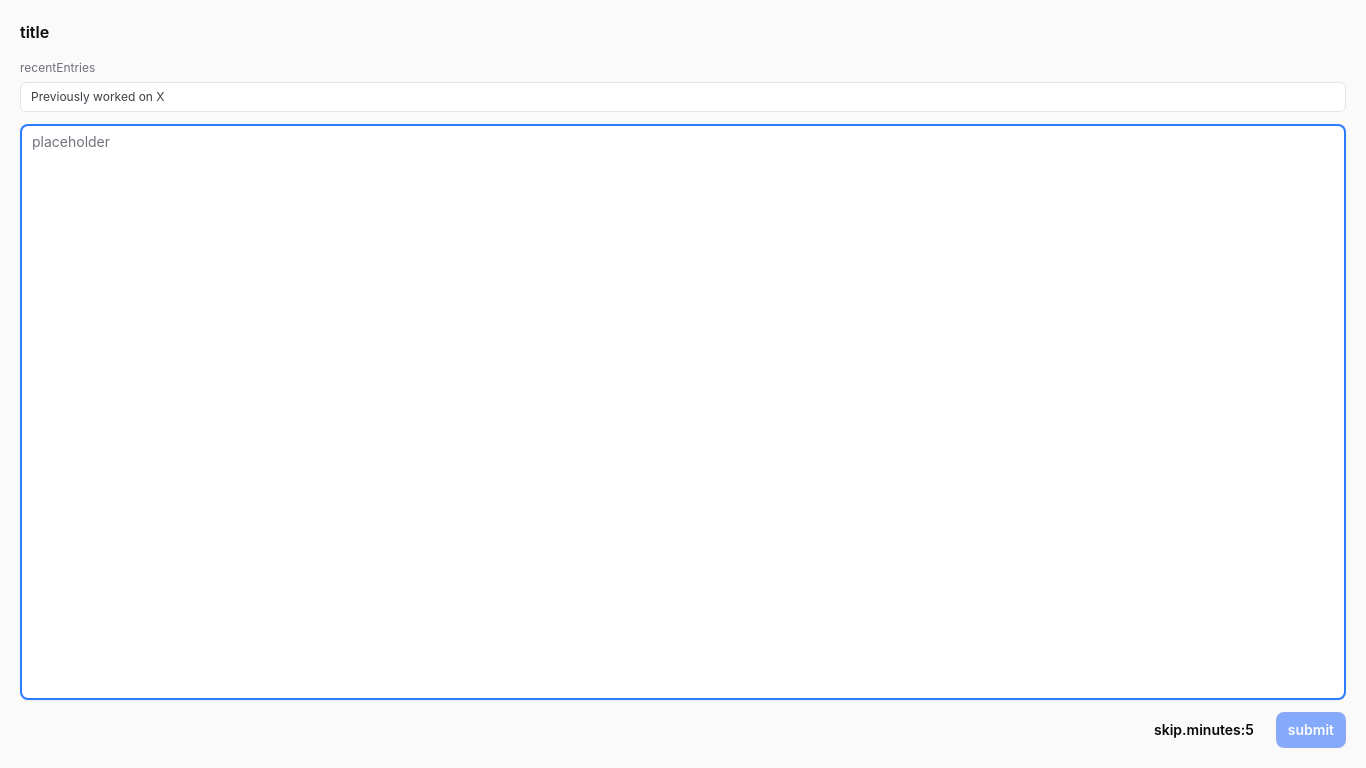
Prompt › clicking a recent entry fills the textarea
This screenshot has width=1366, height=768.
Expected: the text "Previously worked on X" is shown, [31, 89, 164, 104]
Click the button "Previously worked on X".
click(98, 96)  # box [20, 82, 1346, 112]
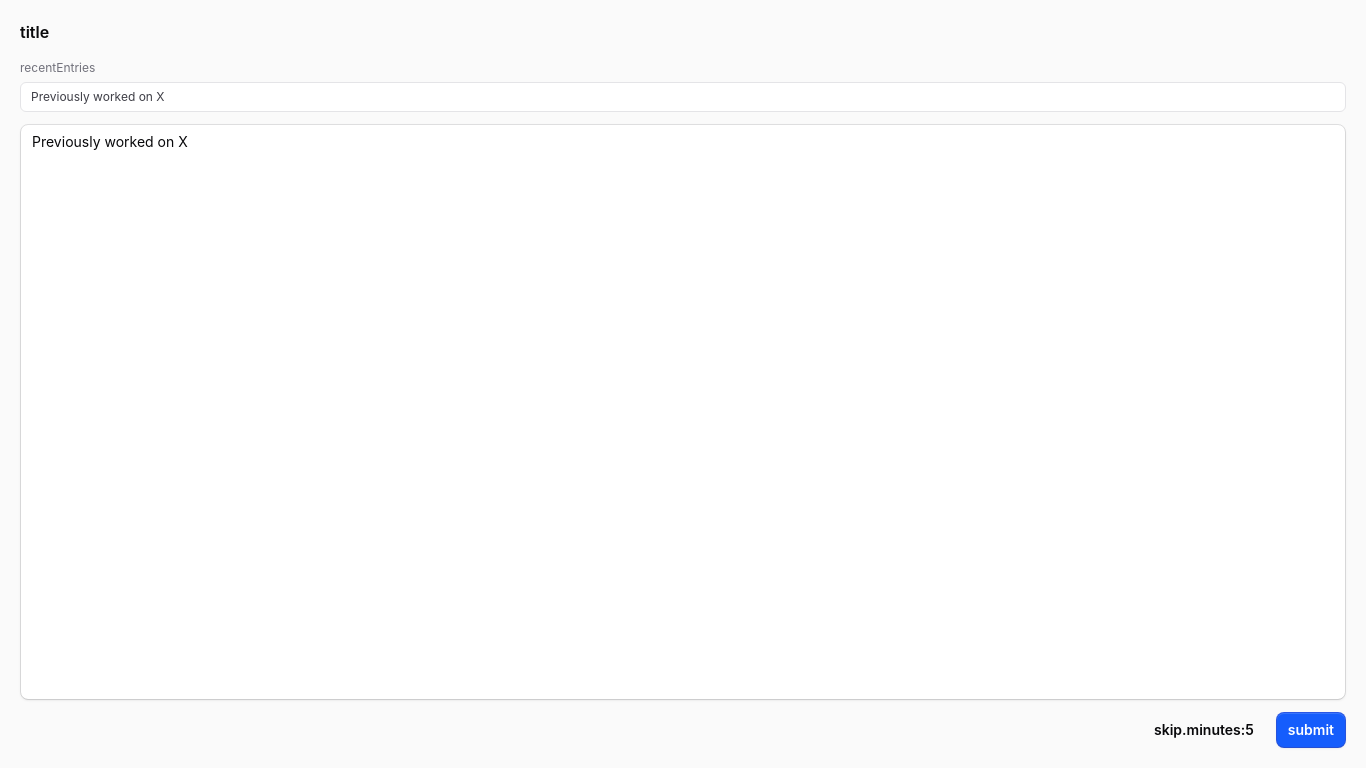
Expected: the text box holds "Previously worked on X"
